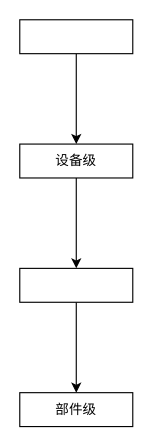
Some shapes in this 153 by 446 pixel diagram are drawn without their labels. The shapes that lost their labels are listed below. From the top down, each one's centre as x and y in pixels, then its label:
(76,36): 报警事件
(76,284): 机构级
